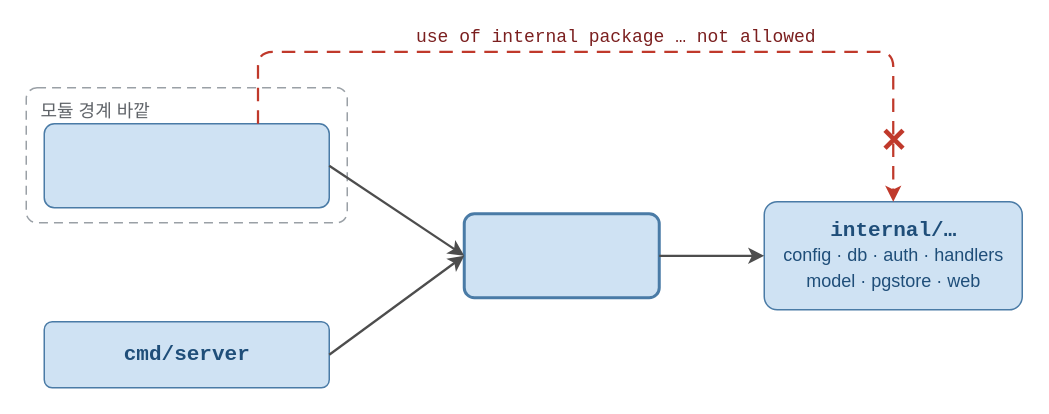
Some shapes in this 1049 by 414 pixel diagram are drawn without their labels. The centre of each missing label's shape, as x and y in pixels:
"api/index.go Vercel이 모듈 밖에서 단독 컴파일" goes at pixel 186 165.
"pkg/app 공개 창구" goes at pixel 561 255.
